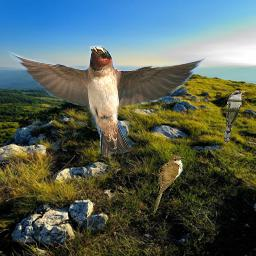Cuckoo: (153, 156, 184, 214), (224, 91, 245, 143)
Swallow: (6, 45, 207, 157)
